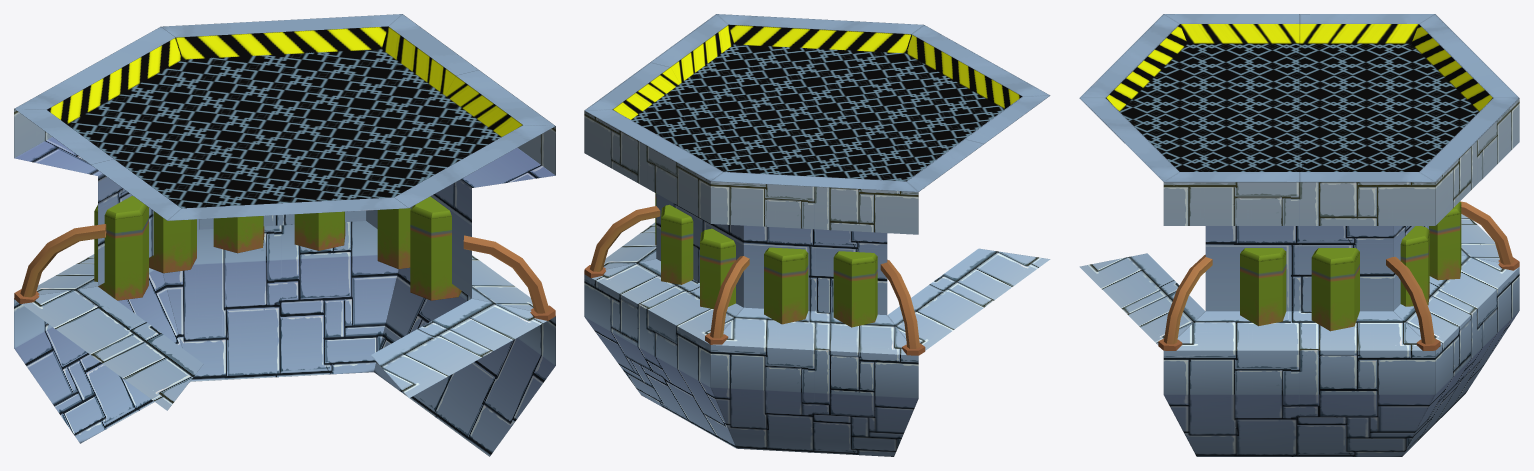
Rendered from JC_ModPanels_EnemyTile_NOFence.obj.
3 views of the same model, side by side, from view 1: azimuth 30°, elevation 25°; view 2: azimuth 150°, elevation 25°; view 3: azimuth 270°, elevation 25° (orthographic). The views are drawn at different scales.
Visible parts, largest first — view 1: polySurface71; view 2: polySurface71; view 3: polySurface71.
Boxes of the visible parts, x1,y1,x2,y2 form: polySurface71: [14, 14, 555, 456]; polySurface71: [584, 14, 1050, 456]; polySurface71: [1079, 14, 1519, 456].
Size of the model in its own units: 390 by 318 by 430.
1 material, 1 textured.
